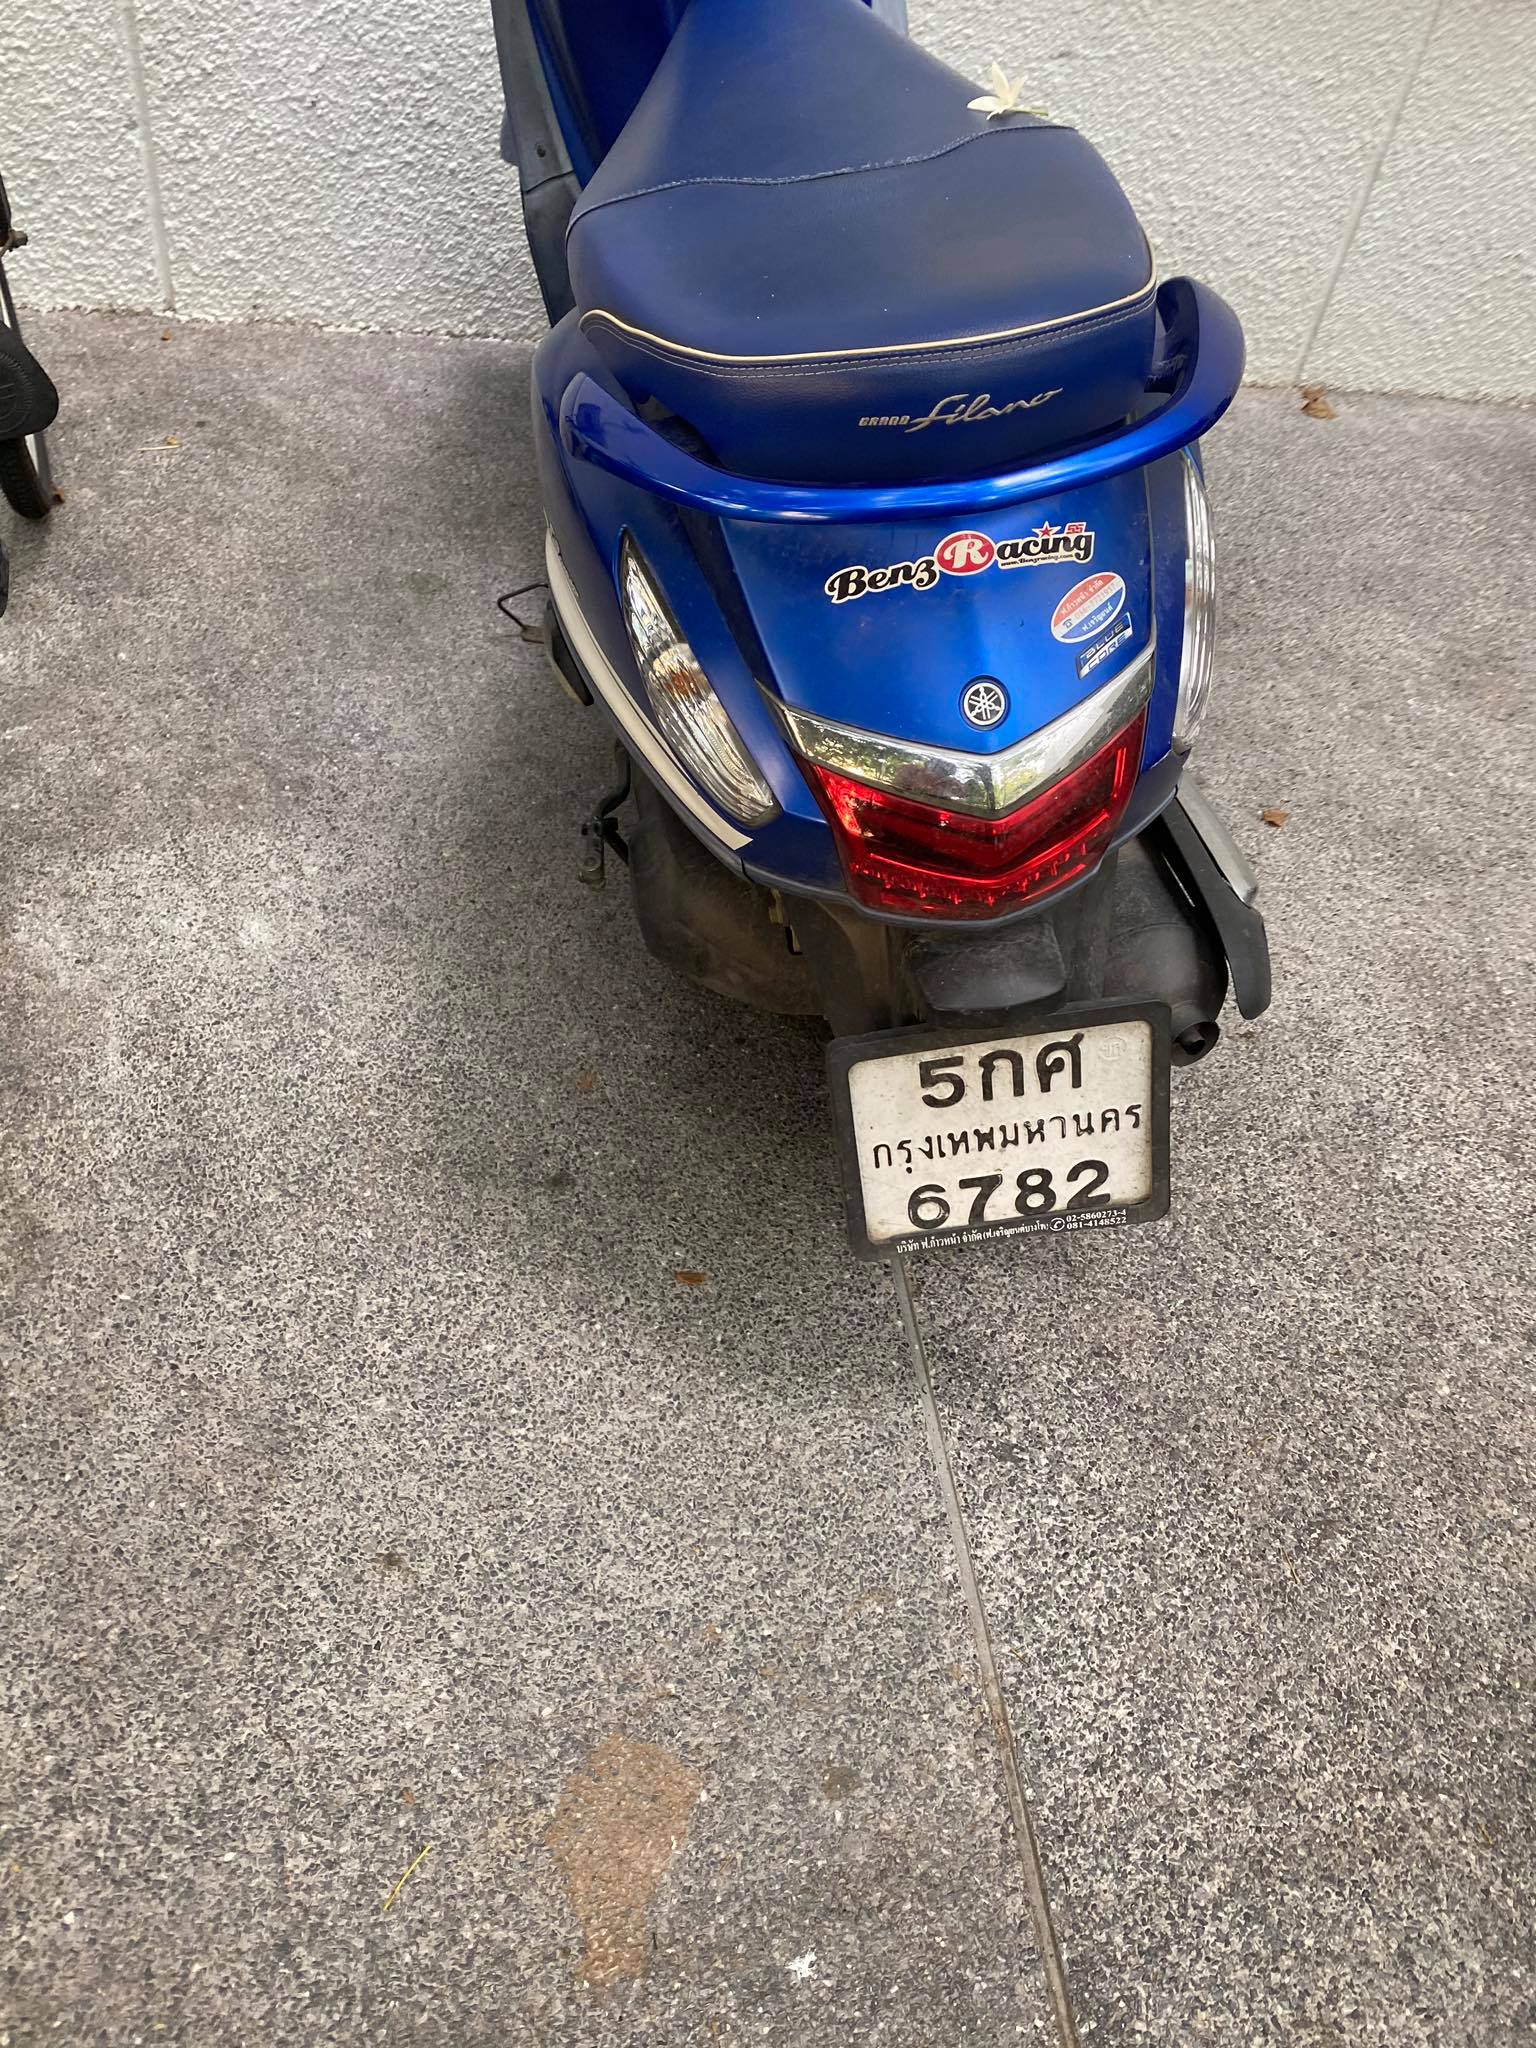line1: (907, 1022, 1094, 1111)
line2: (860, 1101, 1154, 1172)
line3: (887, 1168, 1129, 1230)
